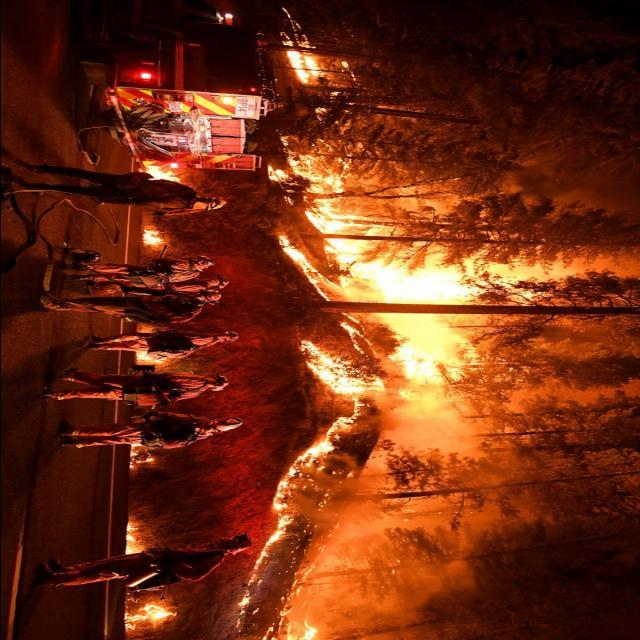Fire: (270, 52, 542, 400), (243, 418, 361, 640), (118, 522, 182, 640)
